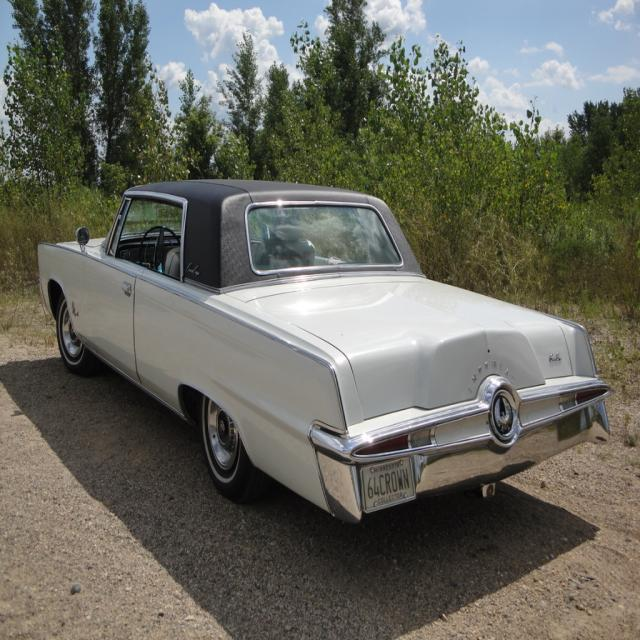car: (34, 169, 614, 524)
